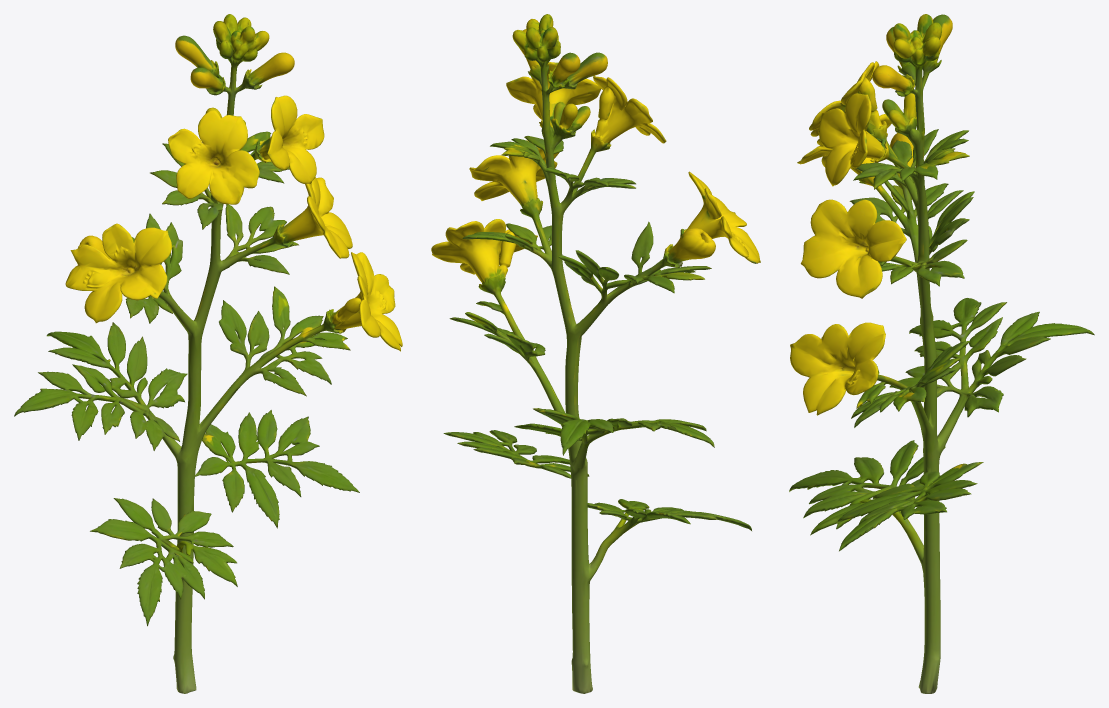
File: tanchunhua.glb
The picture shows the model from 3 angles, left to right: view 1: azimuth 30°, elevation 25°; view 2: azimuth 150°, elevation 25°; view 3: azimuth 270°, elevation 25°; orthographic projection. The views are drawn at different scales.
Visible parts, largest first — view 1: node_0; view 2: node_0; view 3: node_0.
Part boxes in pixels (bbox=[...]): node_0: bbox=[14, 14, 402, 693]; node_0: bbox=[431, 14, 760, 693]; node_0: bbox=[789, 14, 1094, 693].
Size of the model in its own units: 0.624 by 1.19 by 0.4755.
Materials: 1 (1 with a texture image).
